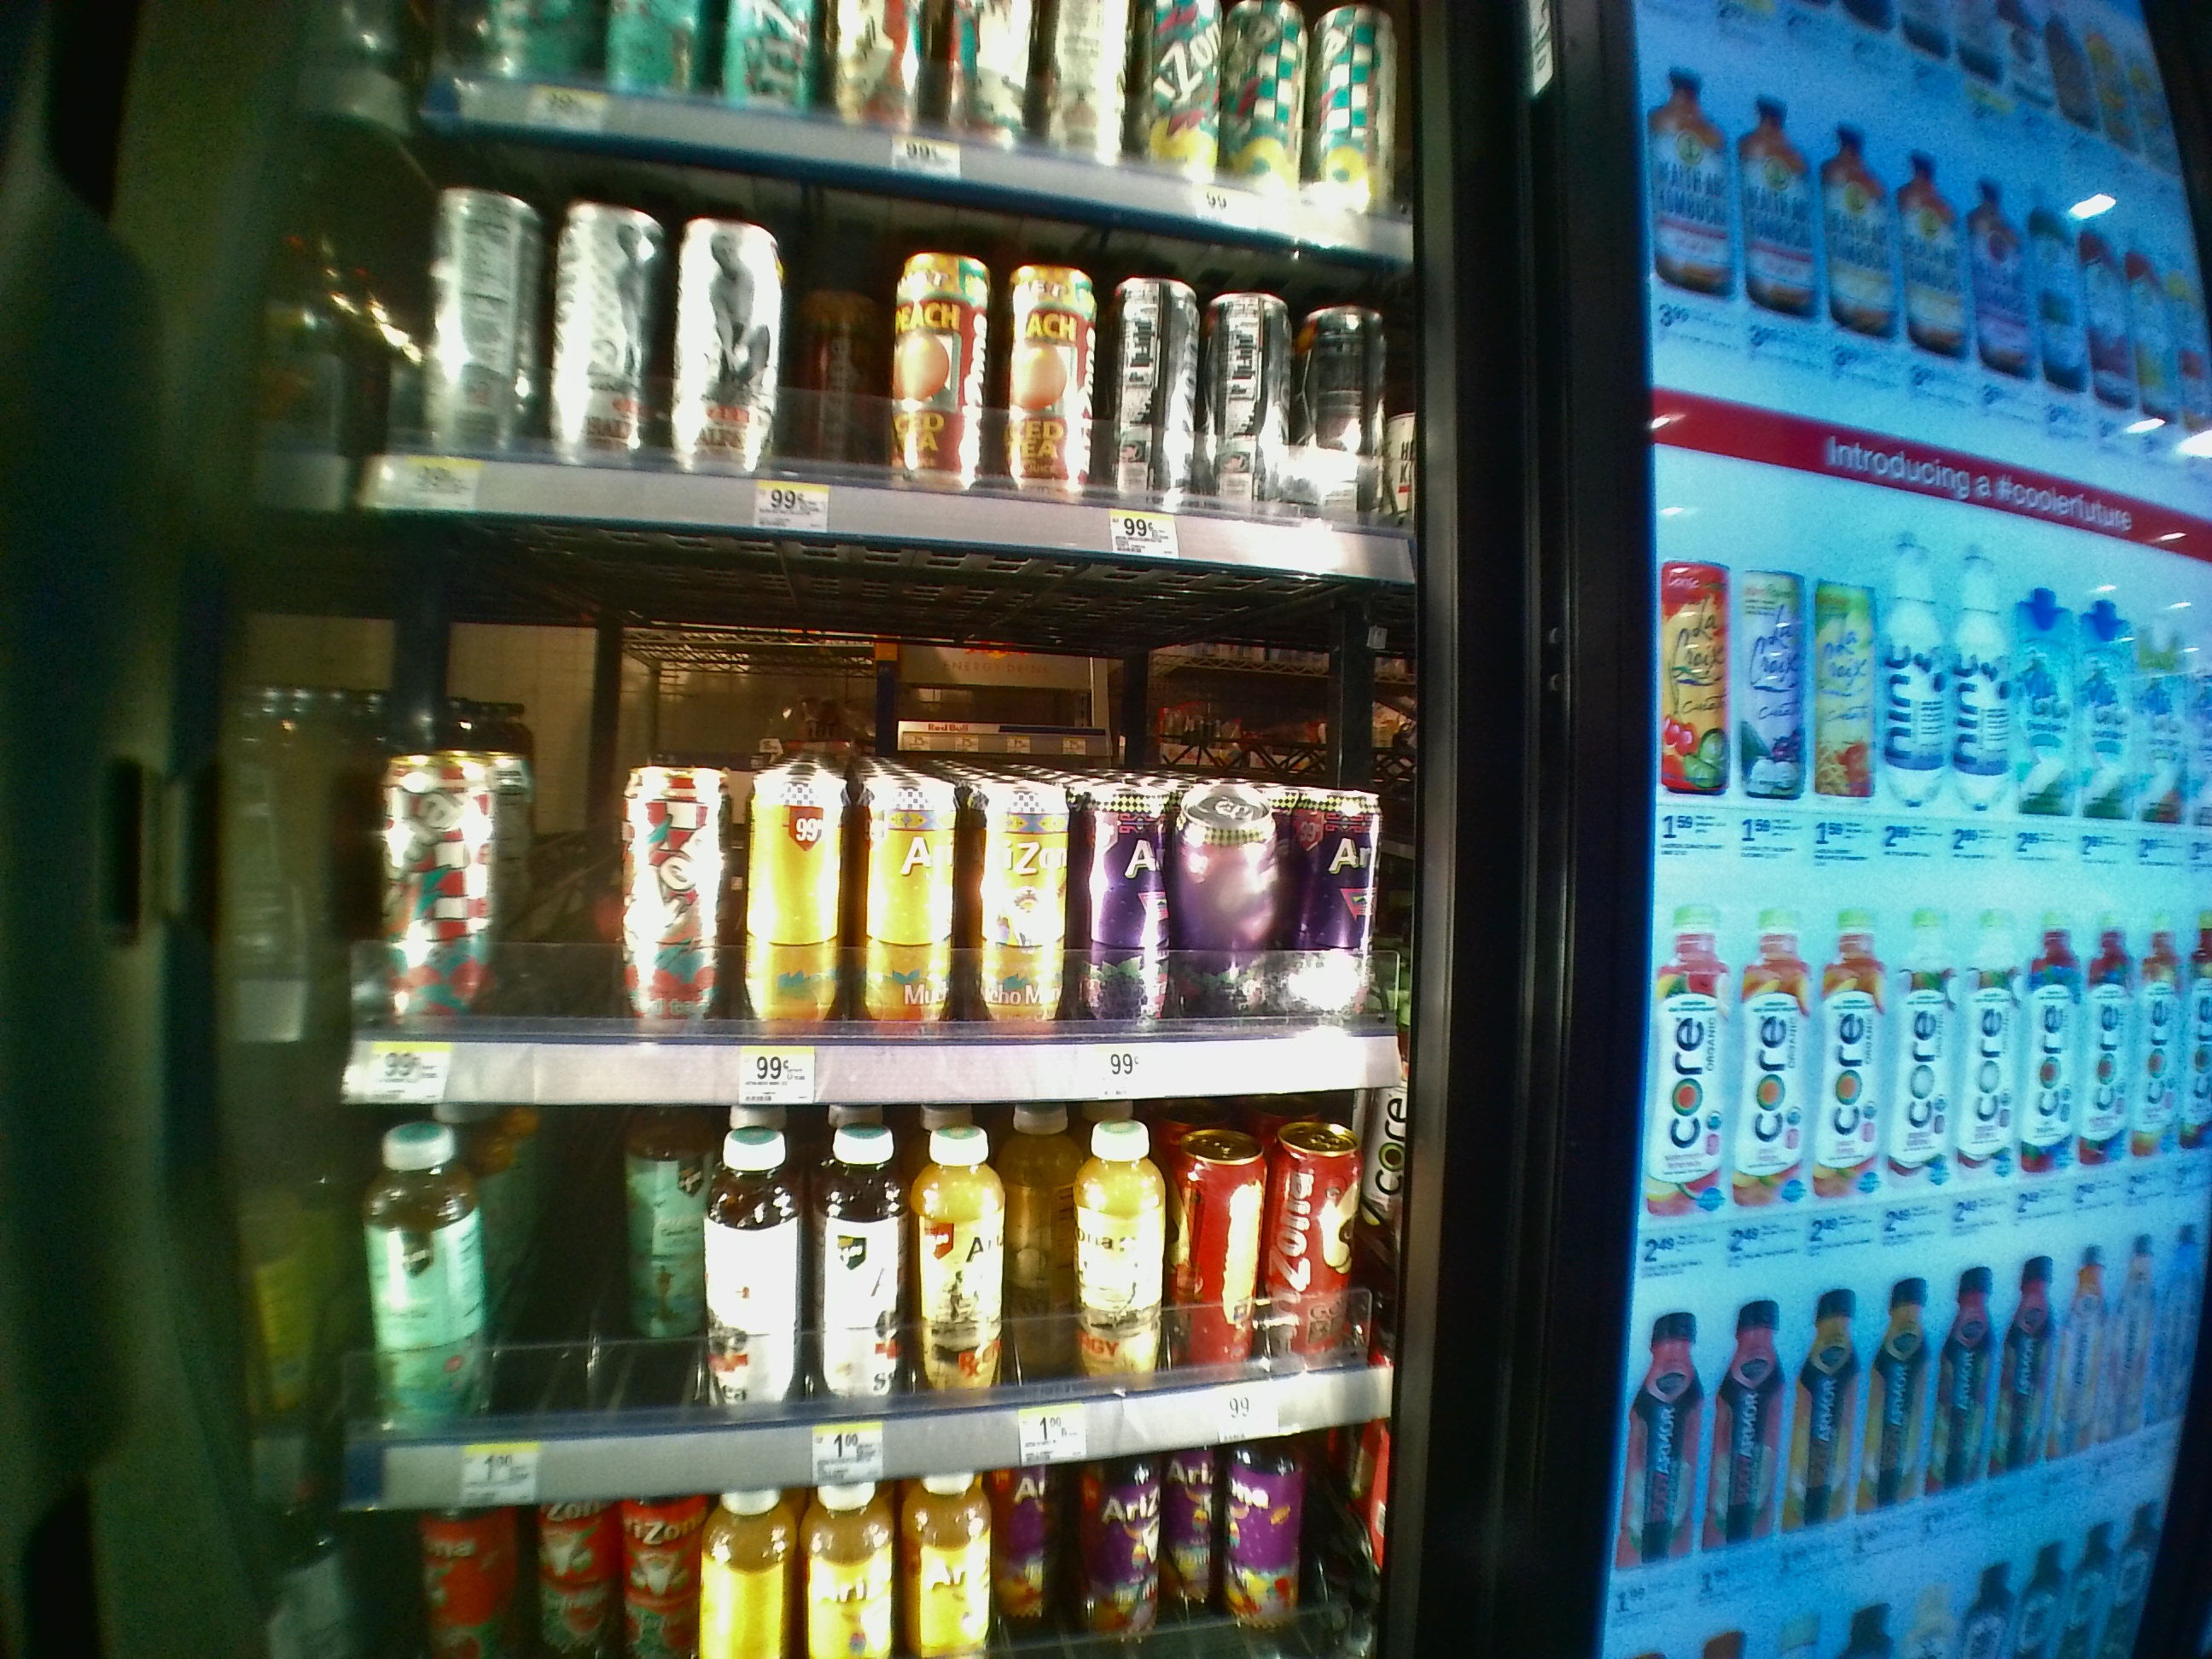shelf: (336, 500, 1416, 1100), (334, 1114, 1406, 1504)
